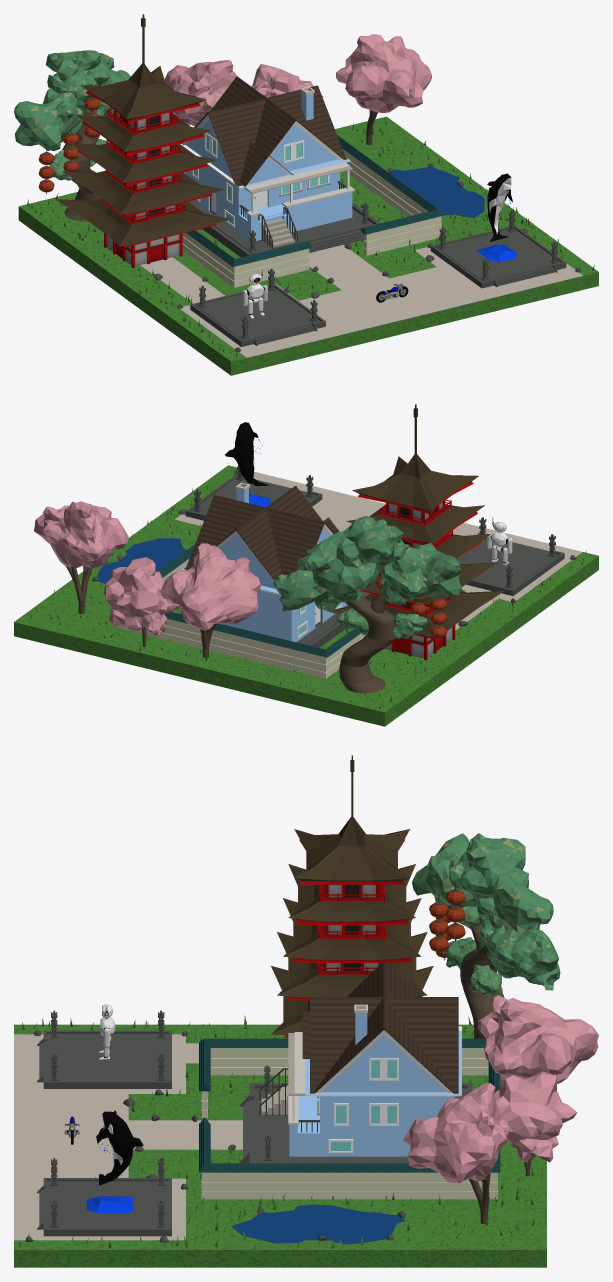
The picture shows the model from 3 angles, top to bottom: view 1: azimuth 30°, elevation 25°; view 2: azimuth 150°, elevation 25°; view 3: azimuth 270°, elevation 25°; orthographic projection. The views are drawn at different scales.
Visible parts, largest first — view 1: Cube.005, Cube.1594, ANIMAL_ORCA, OBJRANDOM_PLATZEEBOT; view 2: Cube.005, Cube.1594, ANIMAL_ORCA, OBJRANDOM_PLATZEEBOT; view 3: Cube.005, Cube.1594, ANIMAL_ORCA.
Boxes of the visible parts, box(x1,y1,x2,y2) form: Cube.005: box(14, 14, 598, 375); Cube.1594: box(179, 76, 354, 248); ANIMAL_ORCA: box(476, 173, 516, 262); OBJRANDOM_PLATZEEBOT: box(243, 269, 267, 318); Cube.005: box(14, 404, 598, 726); Cube.1594: box(181, 482, 347, 642); ANIMAL_ORCA: box(225, 422, 270, 507); OBJRANDOM_PLATZEEBOT: box(487, 517, 512, 565); Cube.005: box(14, 755, 598, 1267); Cube.1594: box(259, 961, 461, 1156); ANIMAL_ORCA: box(86, 1110, 143, 1213).
Size of the model in its own units: 4528 by 2698 by 4389.
Materials: 36 (5 with a texture image).
